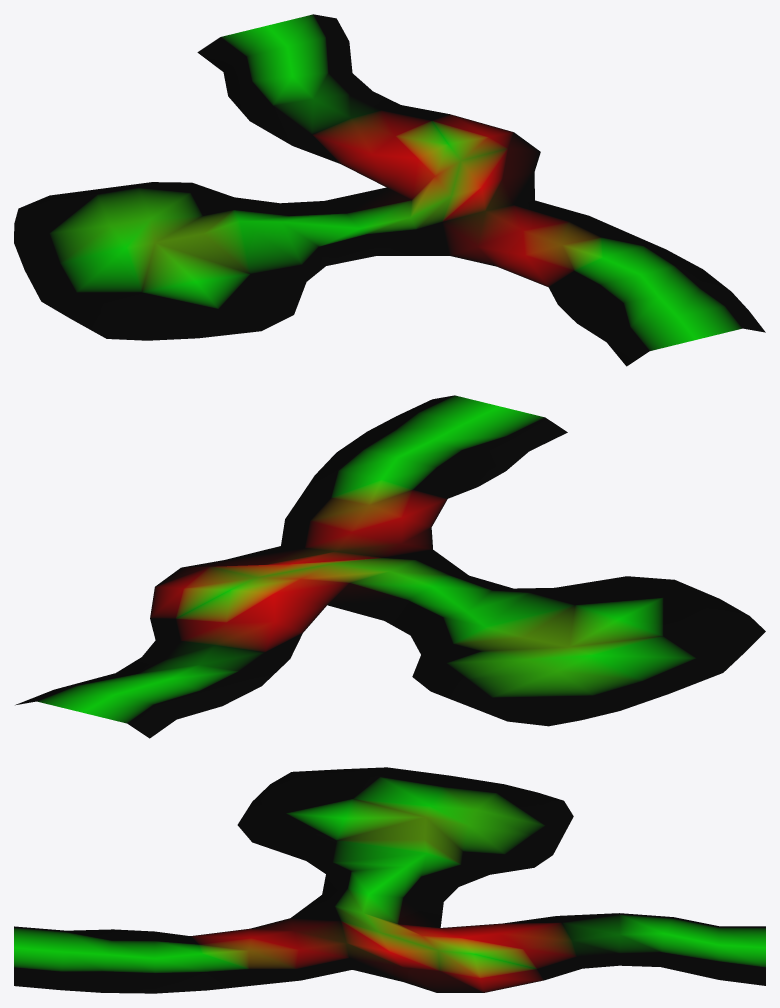
The model's file is Section_WaySafePlace01_Swamp_Terrain.fbx.
The picture shows the model from 3 angles, top to bottom: view 1: azimuth 30°, elevation 25°; view 2: azimuth 150°, elevation 25°; view 3: azimuth 270°, elevation 25°; orthographic projection. The views are drawn at different scales.
Visible parts, largest first — view 1: Section_WaySafePlace01_Swamp_Terrain; view 2: Section_WaySafePlace01_Swamp_Terrain; view 3: Section_WaySafePlace01_Swamp_Terrain.
Boxes of the visible parts, <box> form: Section_WaySafePlace01_Swamp_Terrain: <box>14,14,765,366</box>; Section_WaySafePlace01_Swamp_Terrain: <box>15,395,765,738</box>; Section_WaySafePlace01_Swamp_Terrain: <box>14,767,765,993</box>.
Size of the model in its own units: 5697 by 101 by 8000.
